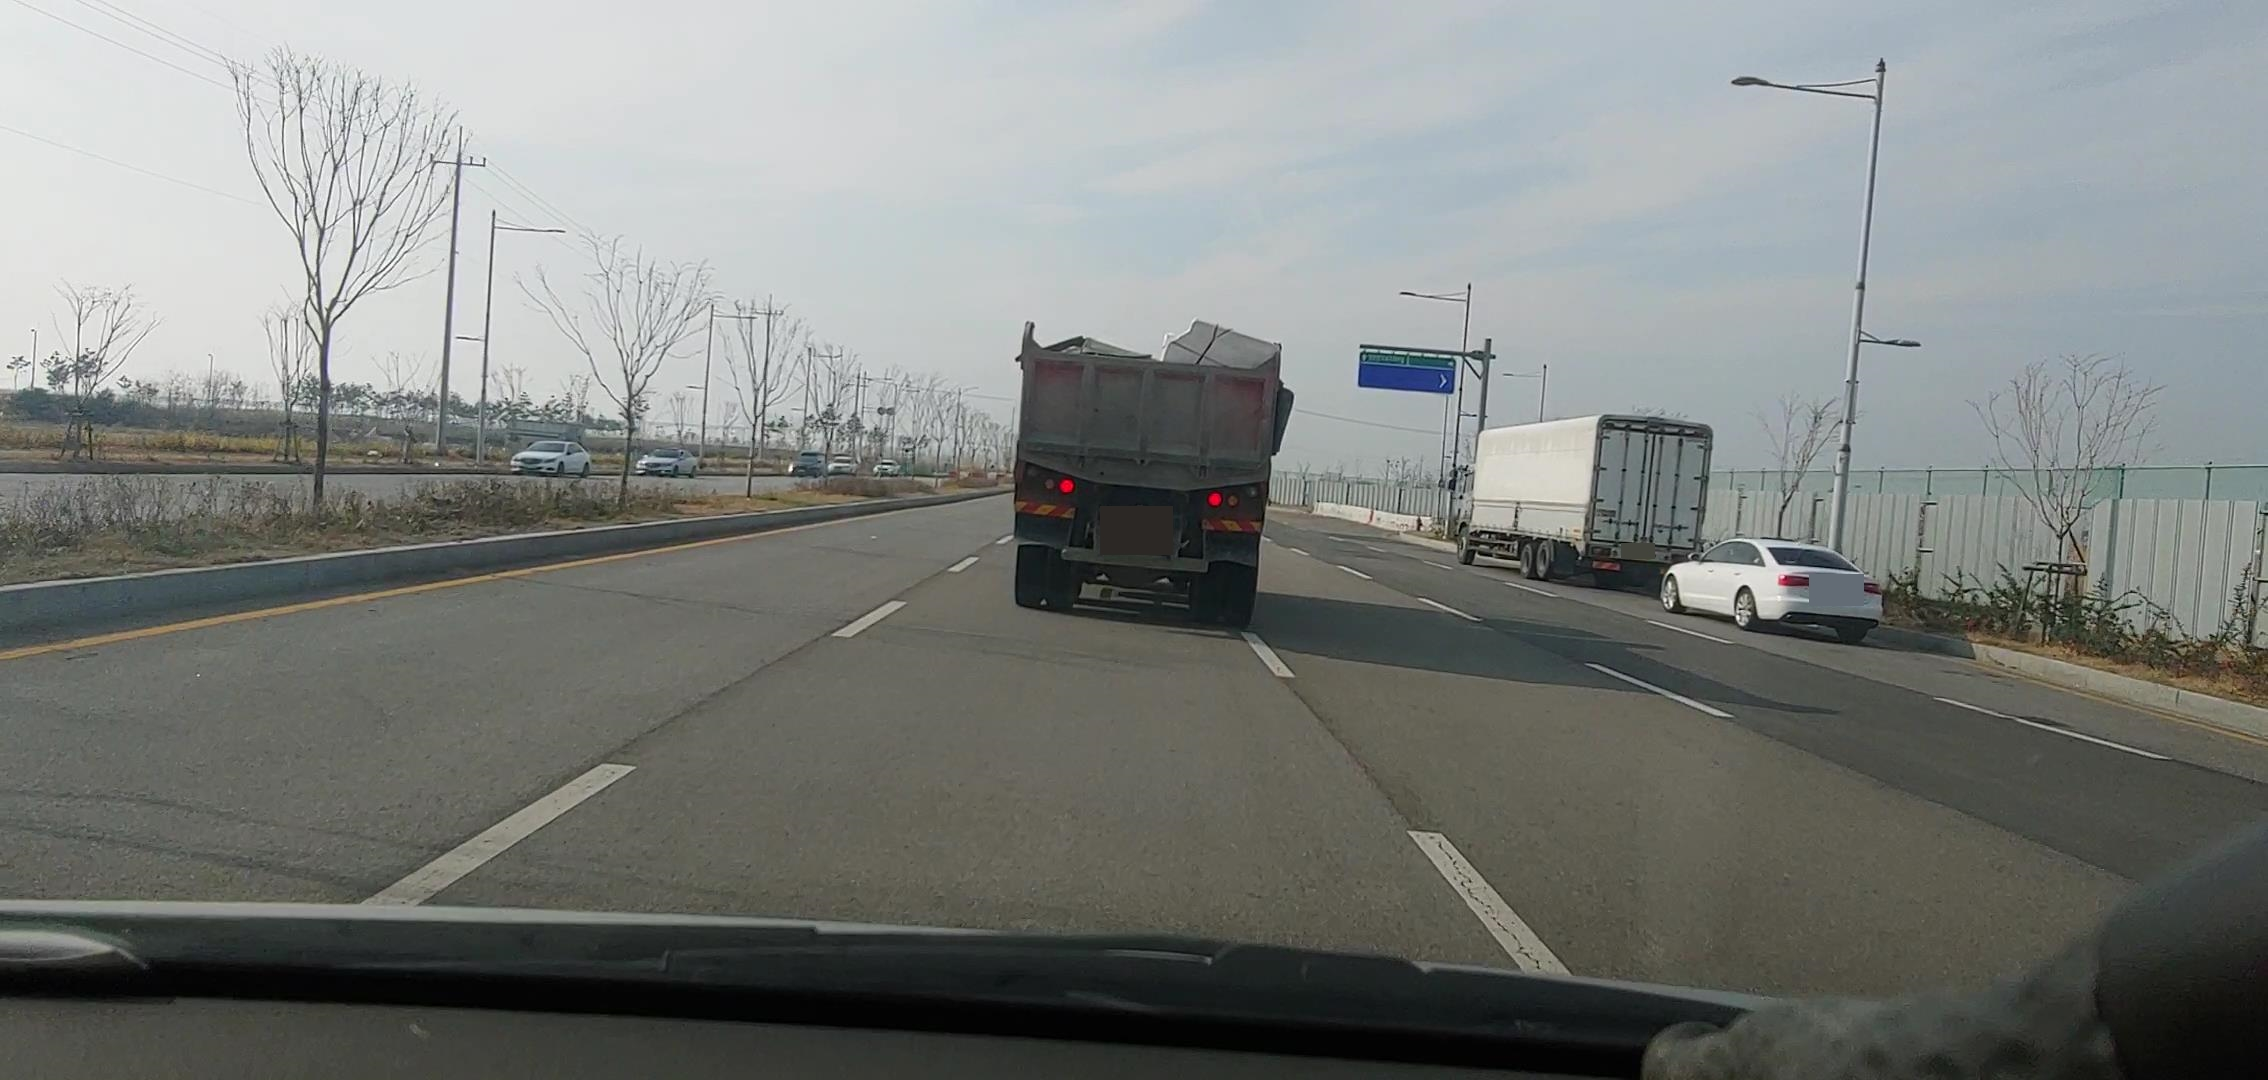불법차량: (1012, 318, 1295, 629)
